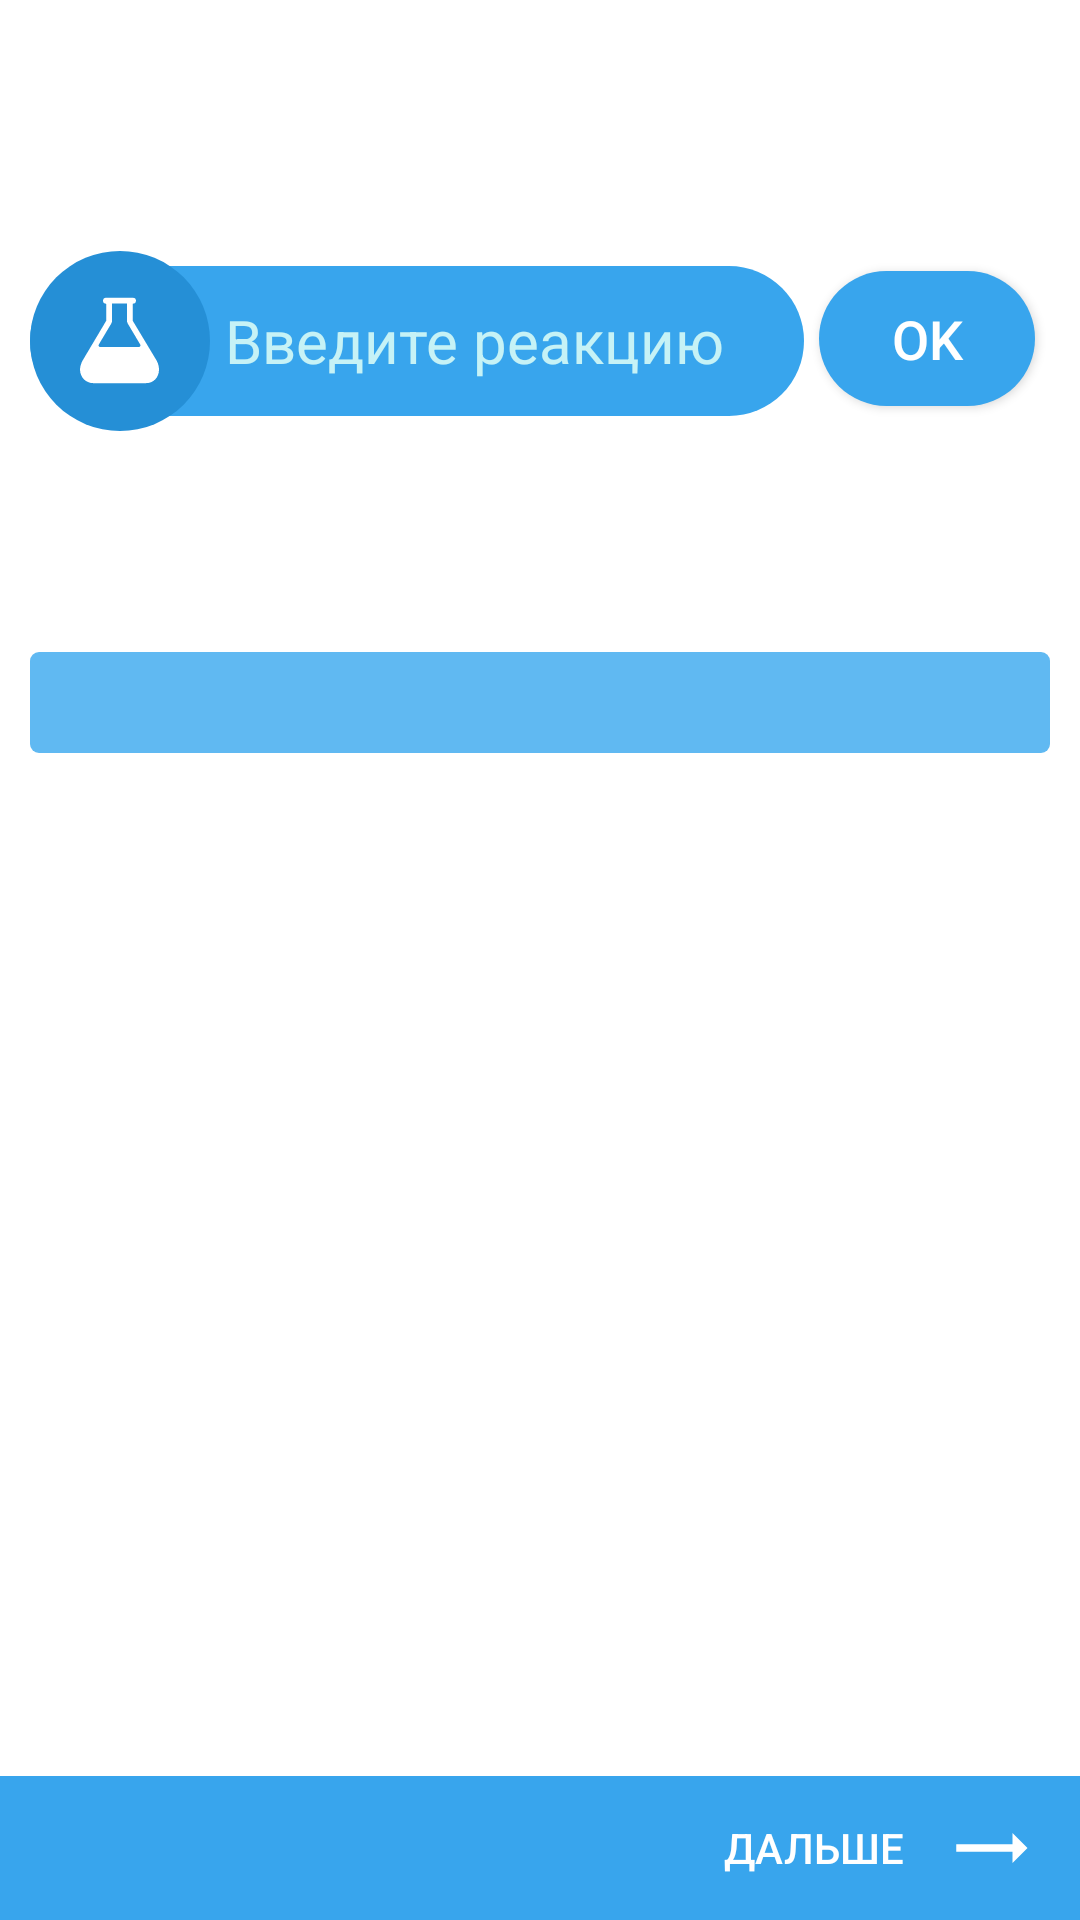

Screen size 1080 x 1920. Icon name, then its box in pixels as bbox(x1, y1, x2, y2):
next: bbox(956, 1833, 1027, 1863)
